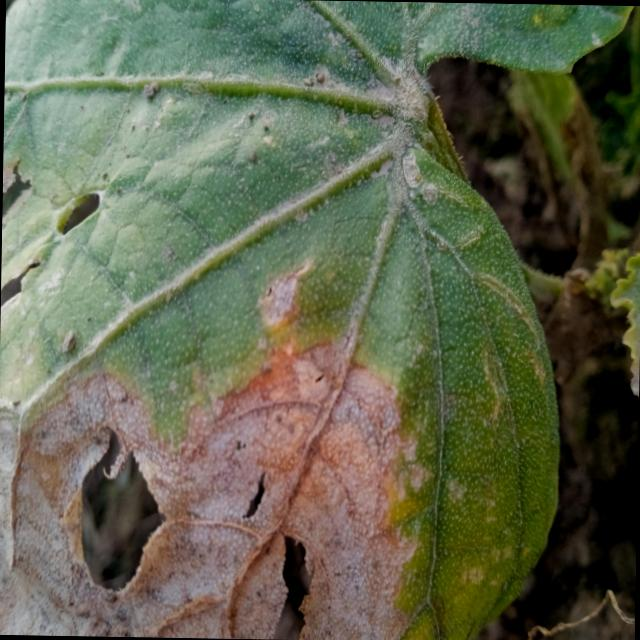cucumber_anthracnose: (0, 0, 417, 638)
